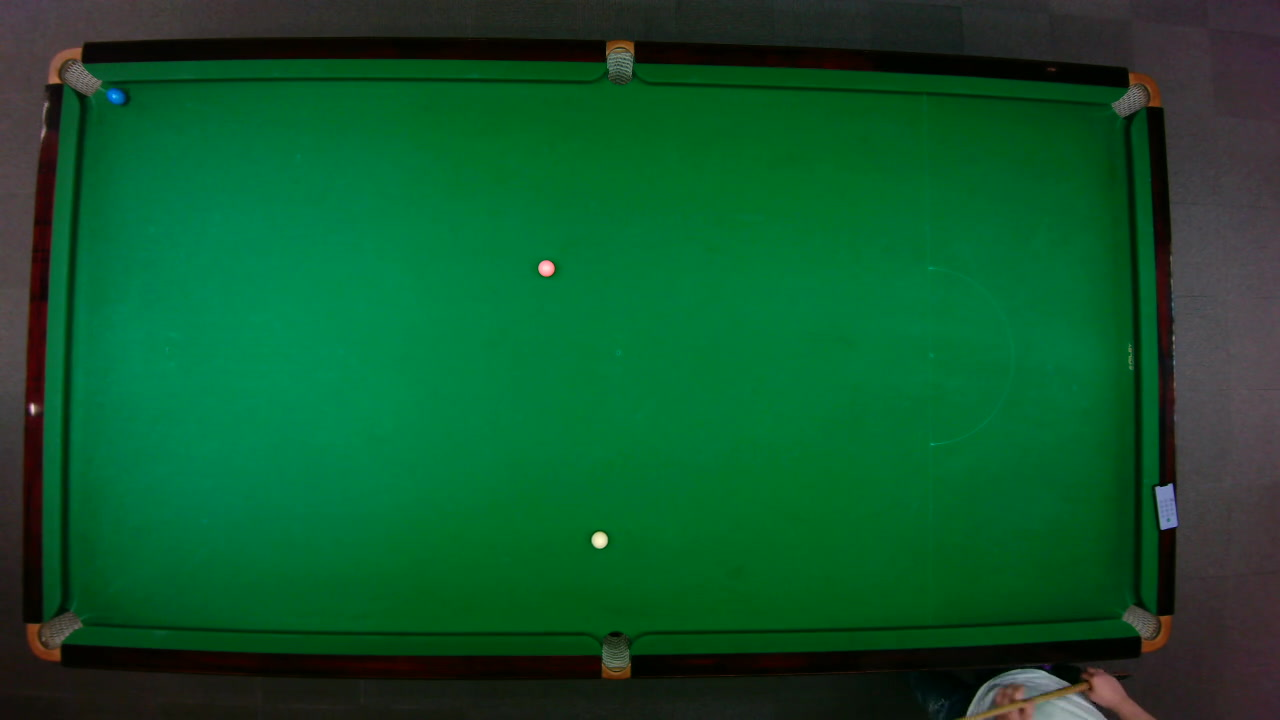bag: (24, 609, 83, 661), (45, 46, 102, 96), (1119, 603, 1172, 652), (1108, 71, 1161, 118), (600, 629, 629, 679), (605, 38, 633, 85)
blue: (106, 86, 126, 105)
pink: (536, 258, 555, 277)
white: (589, 529, 608, 548)
zone: (927, 266, 1013, 445)
